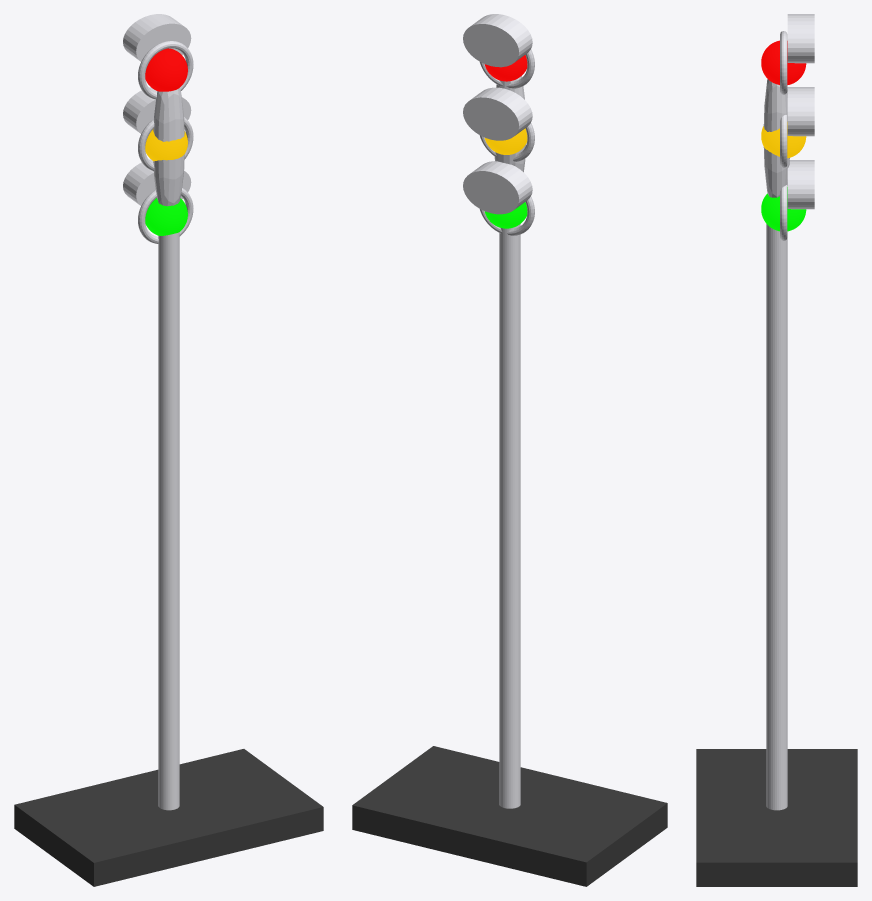
3 views of the same model, side by side, from view 1: azimuth 30°, elevation 25°; view 2: azimuth 150°, elevation 25°; view 3: azimuth 270°, elevation 25° (orthographic). The views are drawn at different scales.
Visible parts, largest first — view 1: Cube, Cylinder, Cube.001, Cylinder.001, Sphere, Sphere.002, Cylinder.002, Cylinder.003, Torus, Sphere.001, Torus.002, Torus.001; view 2: Cube, Cylinder, Cylinder.002, Cylinder.001, Cylinder.003, Sphere.001; view 3: Cube, Cylinder, Cube.001, Cylinder.001, Cylinder.002, Cylinder.003, Sphere, Sphere.002, Sphere.001, Torus, Torus.002, Torus.001.
Part boxes in pixels (x1,y1,x2,y2): Cube: (14,749,323,886); Cylinder: (158,232,179,810); Cube.001: (153,88,184,206); Cylinder.001: (123,14,191,61); Sphere: (145,48,187,91); Sphere.002: (145,198,187,235); Cylinder.002: (123,87,191,133); Cylinder.003: (123,159,191,205); Torus: (138,41,193,99); Sphere.001: (145,129,187,161); Torus.002: (138,188,193,243); Torus.001: (138,117,193,170); Cube: (352,746,667,886); Cylinder: (499,224,520,808); Cylinder.002: (463,87,532,140); Cylinder.001: (463,14,532,67); Cylinder.003: (463,161,532,214); Sphere.001: (484,128,527,154); Cube: (696,749,857,886); Cylinder: (766,224,787,810); Cube.001: (763,79,789,197); Cylinder.001: (787,14,814,63); Cylinder.002: (787,87,814,136); Cylinder.003: (787,160,814,209); Sphere: (761,40,806,85); Sphere.002: (761,187,806,231); Sphere.001: (761,122,806,158); Torus: (780,31,787,94); Torus.002: (780,184,787,240); Torus.001: (780,115,787,167).
Bounding box in the file's own units: 1 × 3.33 × 0.6.
